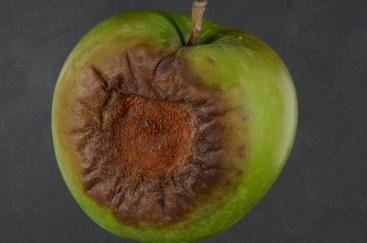rotten apple: (49, 7, 302, 243)
